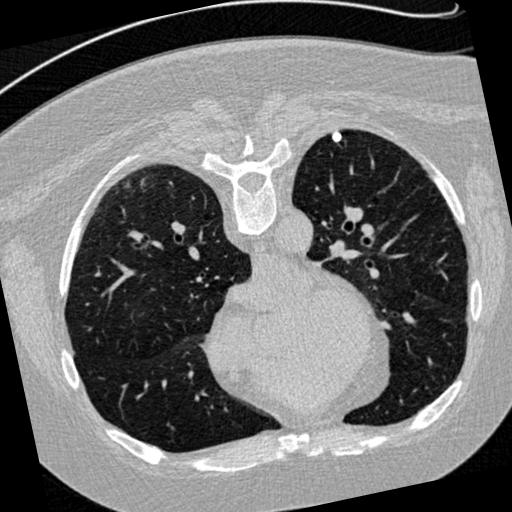nodule: (326, 129, 345, 148)
